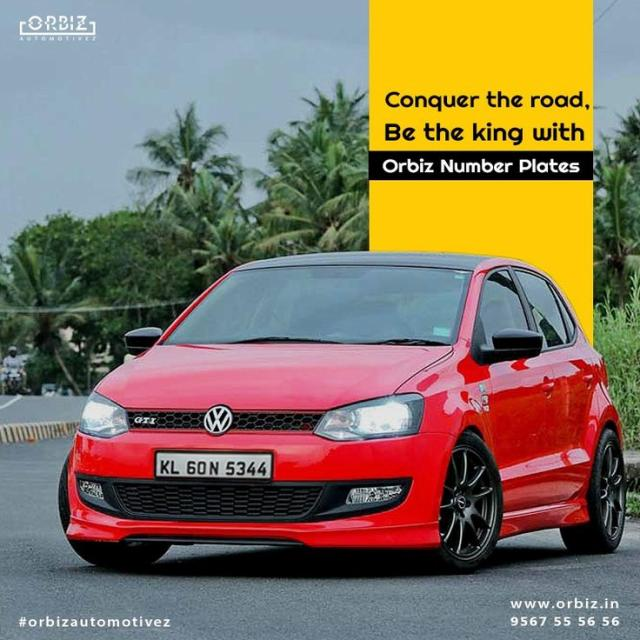Plate: (154, 453, 271, 480)
